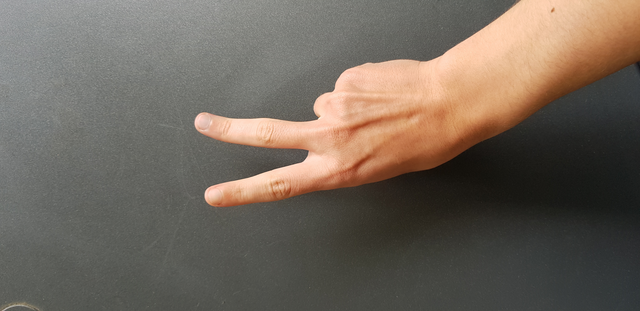Scissors: (176, 48, 470, 216)
